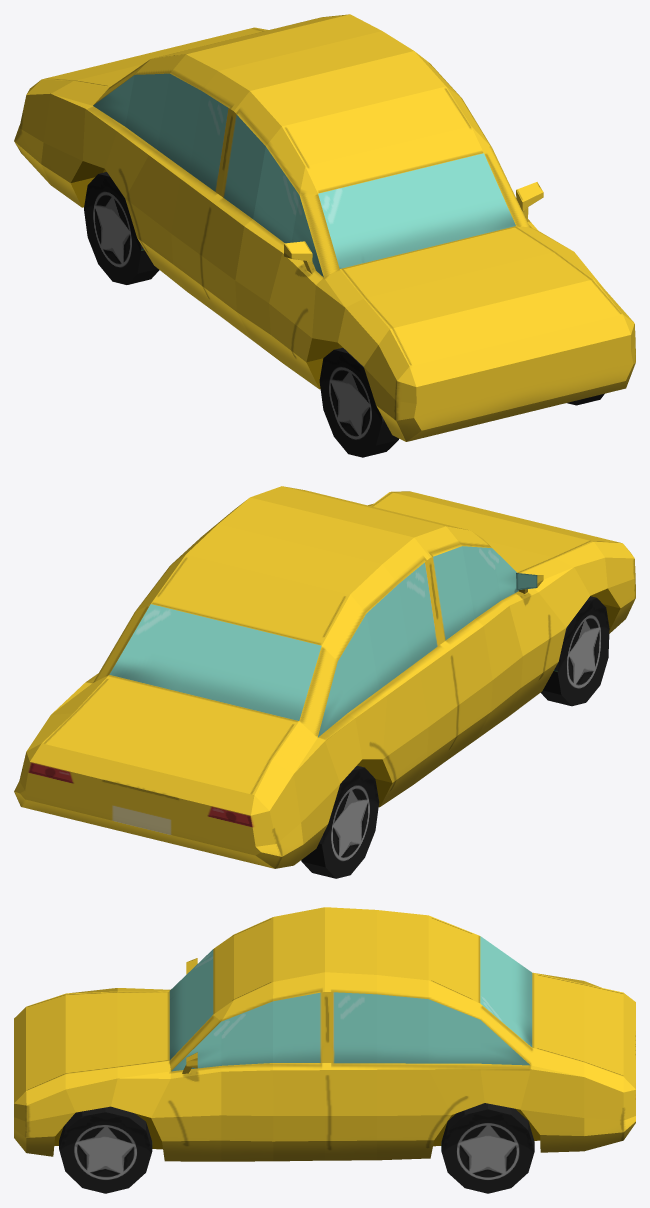
The model's file is decorCar1.fbx.
The picture shows the model from 3 angles, top to bottom: view 1: azimuth 30°, elevation 25°; view 2: azimuth 150°, elevation 25°; view 3: azimuth 270°, elevation 25°; orthographic projection. The views are drawn at different scales.
Visible parts, largest first — view 1: DecorCar_1; view 2: DecorCar_1; view 3: DecorCar_1.
Part boxes in pixels (bbox=[...]): DecorCar_1: bbox=[14, 14, 635, 457]; DecorCar_1: bbox=[14, 486, 635, 878]; DecorCar_1: bbox=[14, 907, 635, 1193].
Size of the model in its own units: 264 by 240 by 654.
